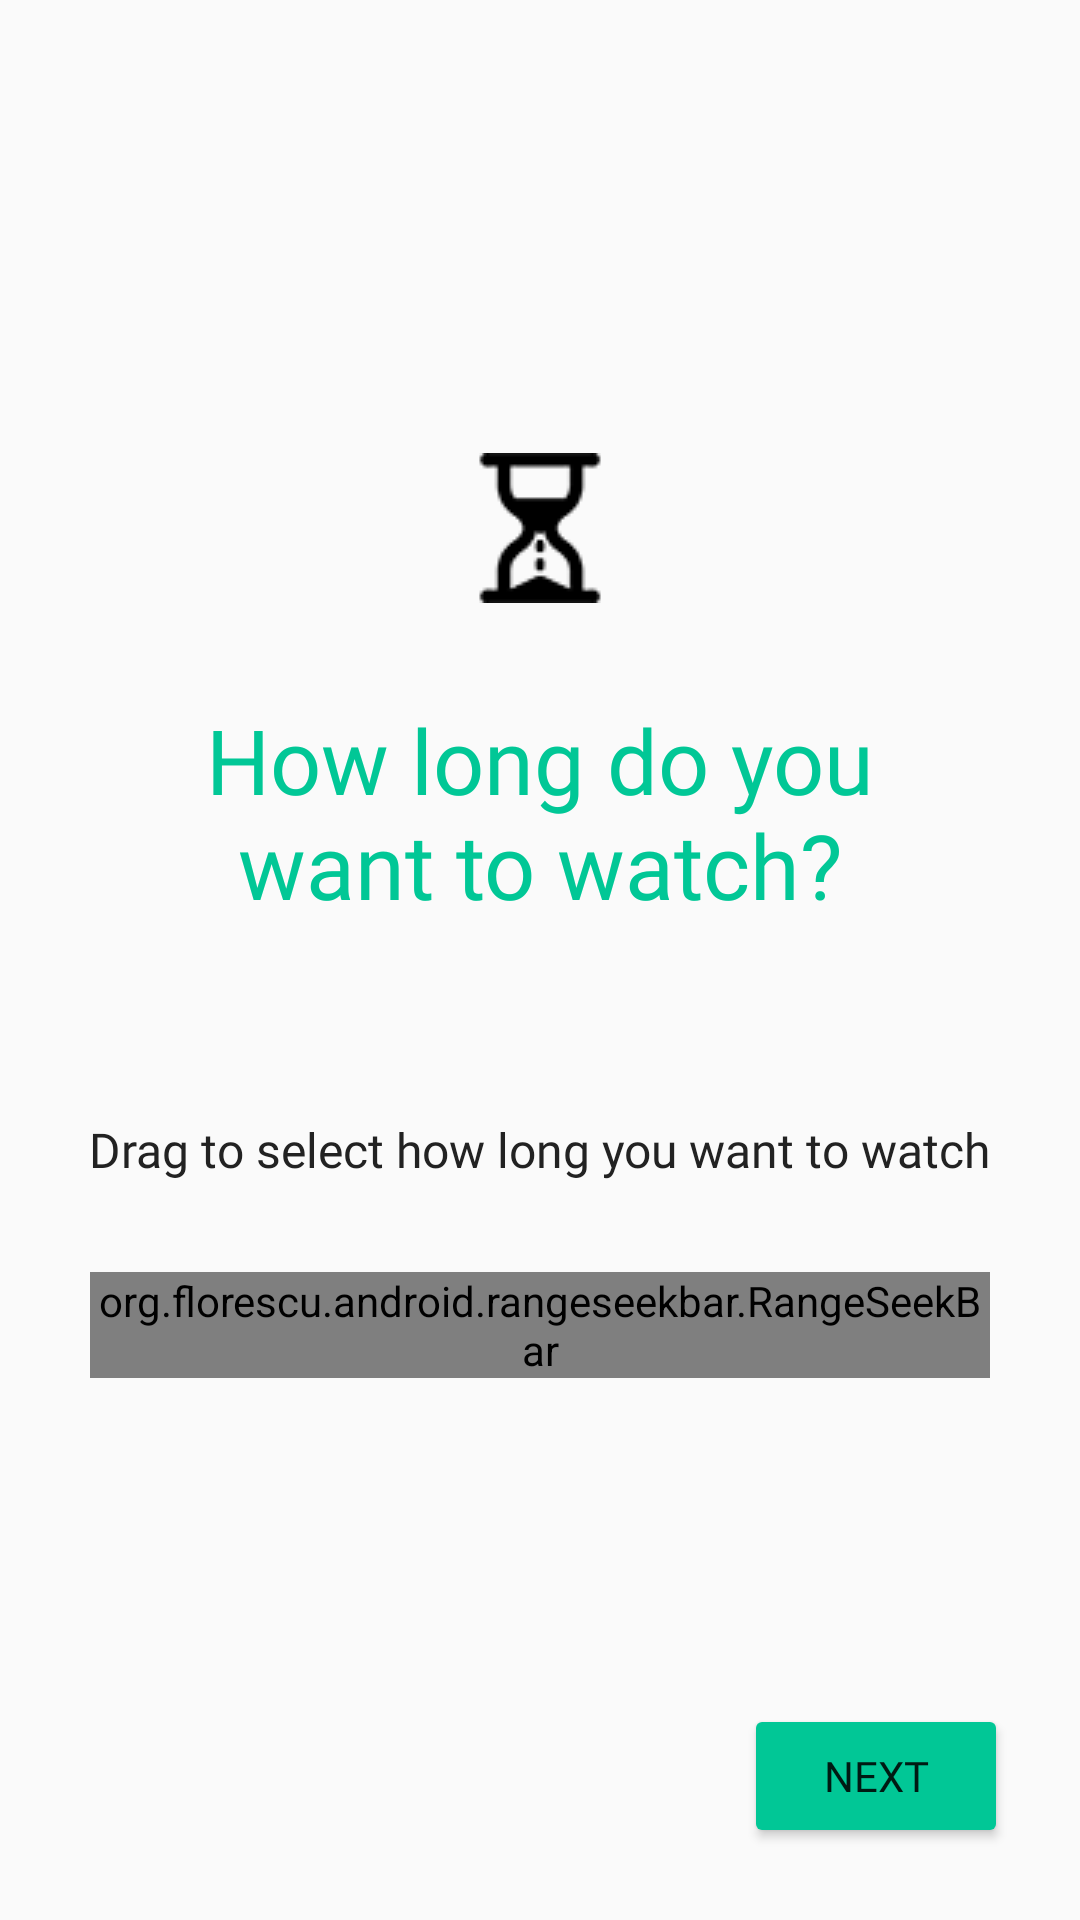

Icons on this 1080 x 1920 Android screen, each with its box as box=[x1, y1, x2, y2]:
duration: box=[479, 453, 601, 603]
